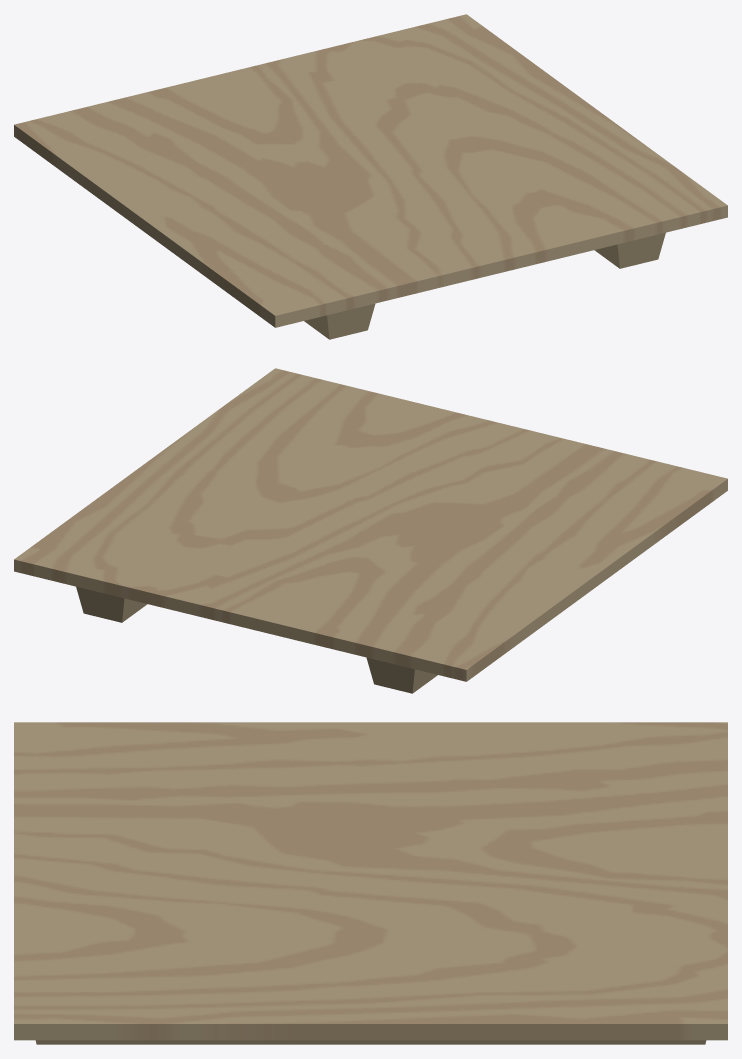
File: SM_Prop_Pallet_02.glb
The picture shows the model from 3 angles, top to bottom: view 1: azimuth 30°, elevation 25°; view 2: azimuth 150°, elevation 25°; view 3: azimuth 270°, elevation 25°; orthographic projection. The views are drawn at different scales.
Visible parts, largest first — view 1: SM_Prop_Pallet_02; view 2: SM_Prop_Pallet_02; view 3: SM_Prop_Pallet_02.
Boxes of the visible parts, x1,y1,x2,y2 form: SM_Prop_Pallet_02: (14, 14, 727, 339); SM_Prop_Pallet_02: (14, 368, 727, 693); SM_Prop_Pallet_02: (14, 722, 727, 1044).
Bounding box in the file's own units: 1.81 × 0.1719 × 1.81.
1 material, 1 textured.
